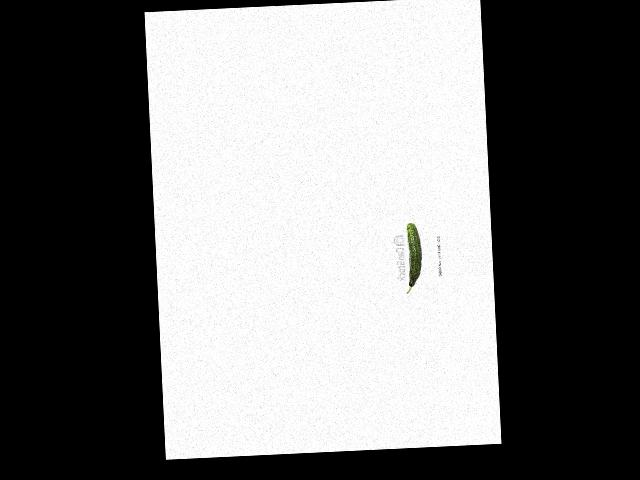cucumber: (403, 223, 423, 294)
